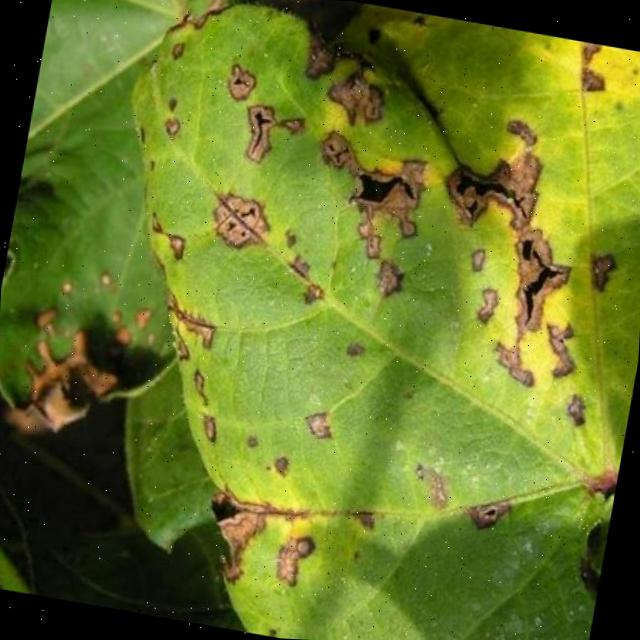Bacterial: (252, 68, 616, 427)
